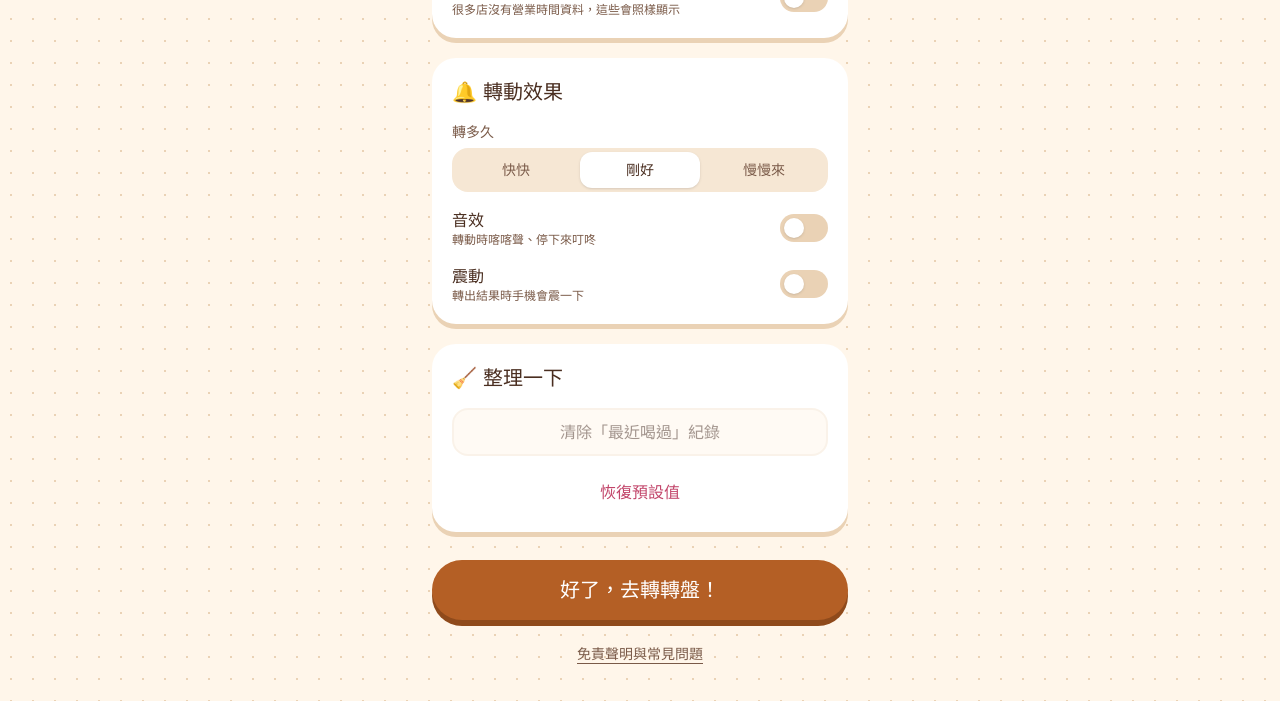
設定頁 › 恢復預設值需要確認
(page scrolled)
Click the button "恢復預設值": (640, 492) [452,472,828,512]
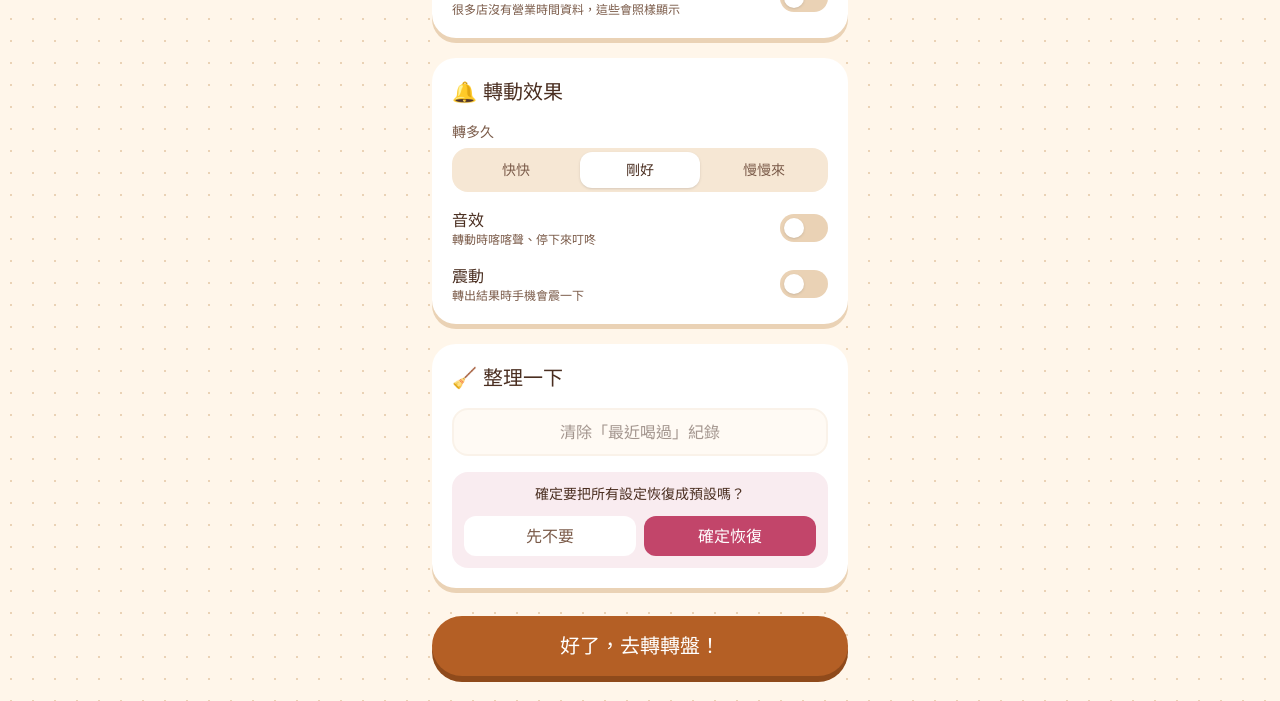
Click the button "先不要": (550, 536) [464,516,636,556]
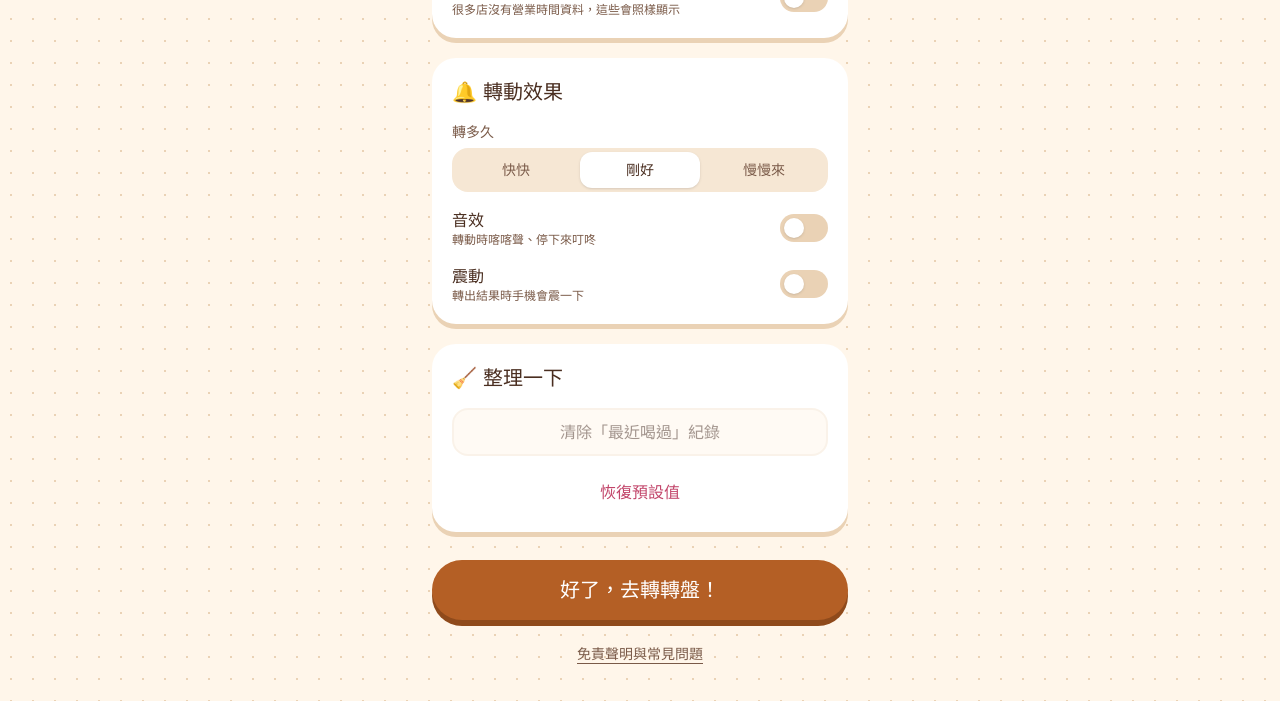
Click the button "恢復預設值": (640, 492) [452,472,828,512]
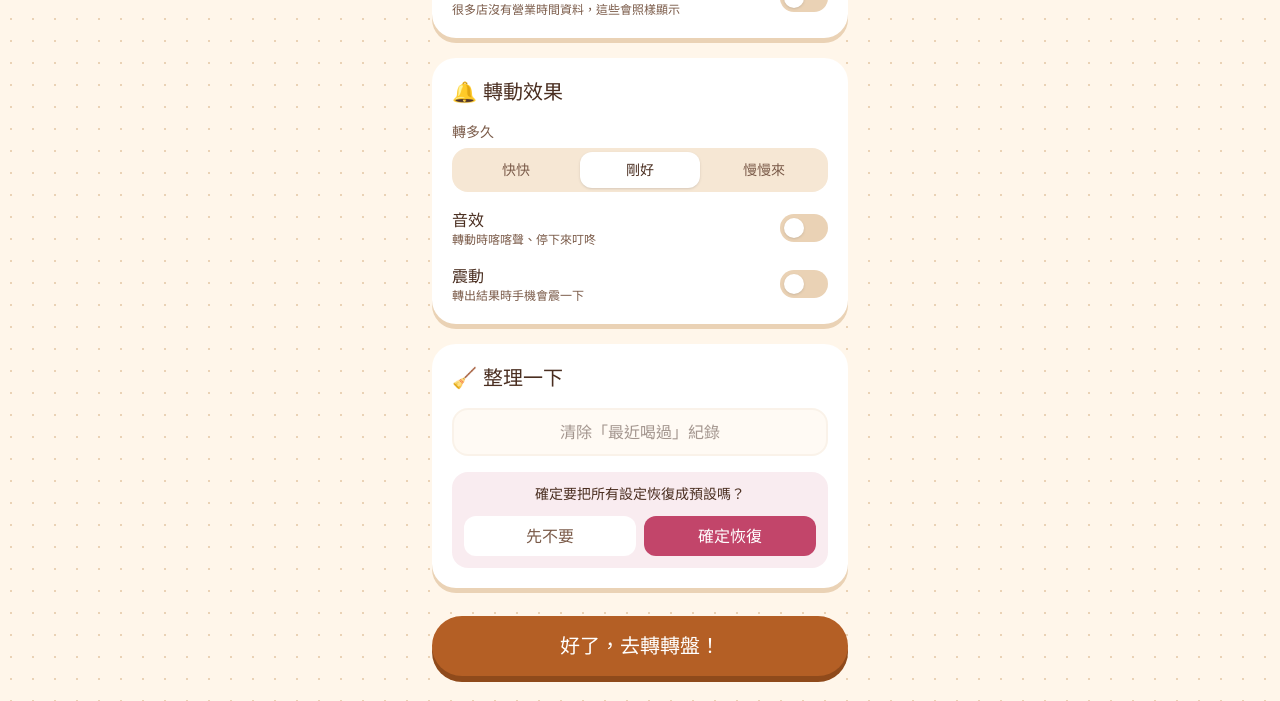
Click the button "確定恢復": (730, 536) [644,516,816,556]
(page scrolled)
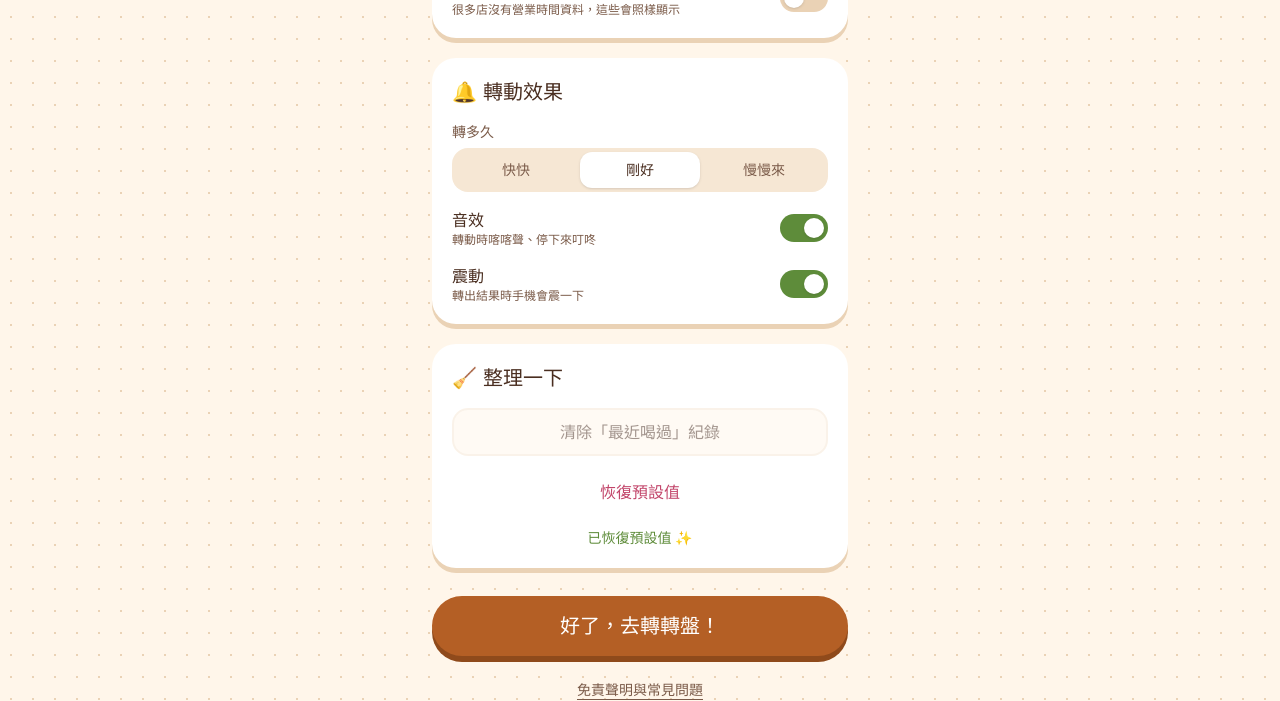
Result: the message shows "已恢復預設值" at [587,528,692,547]
